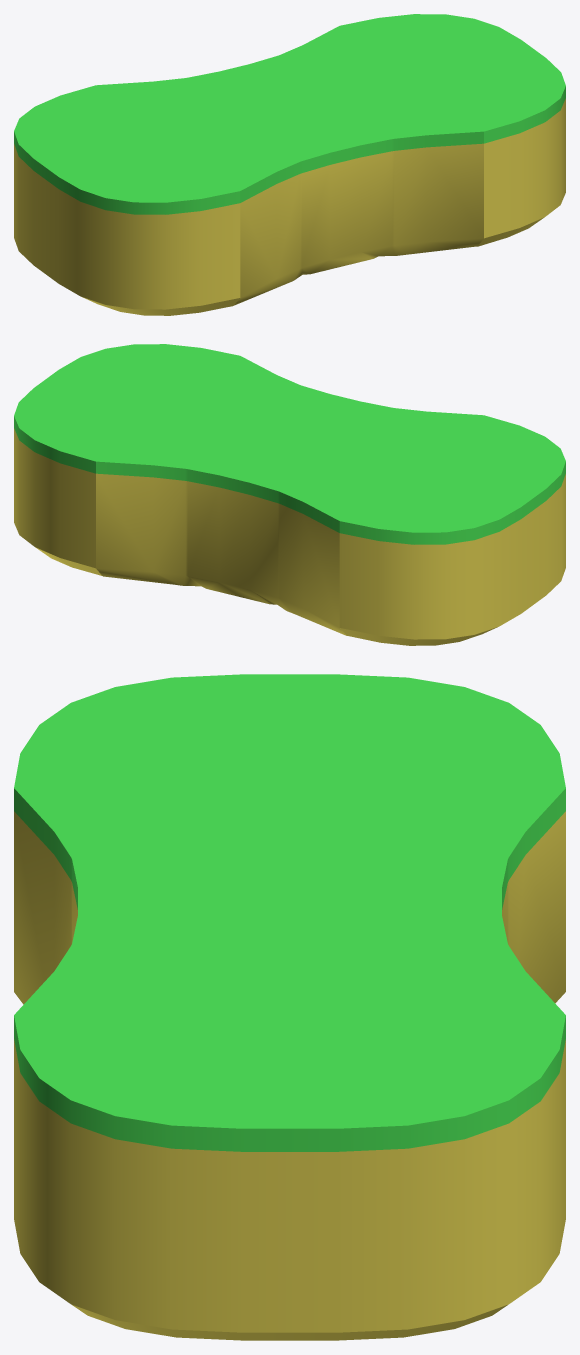
Rendered from Sponge.fbx.
3 views of the same model, one above another, from view 1: azimuth 30°, elevation 25°; view 2: azimuth 150°, elevation 25°; view 3: azimuth 270°, elevation 25° (orthographic). The views are drawn at different scales.
Parts seen in each view (by area): view 1: Sponge; view 2: Sponge; view 3: Sponge.
Part boxes in pixels (x1=…): Sponge: x1=14, y1=14, x2=565, y2=315; Sponge: x1=14, y1=344, x2=565, y2=645; Sponge: x1=14, y1=674, x2=565, y2=1340.
Bounding box in the file's own units: 1.62 × 0.3822 × 0.8338.
